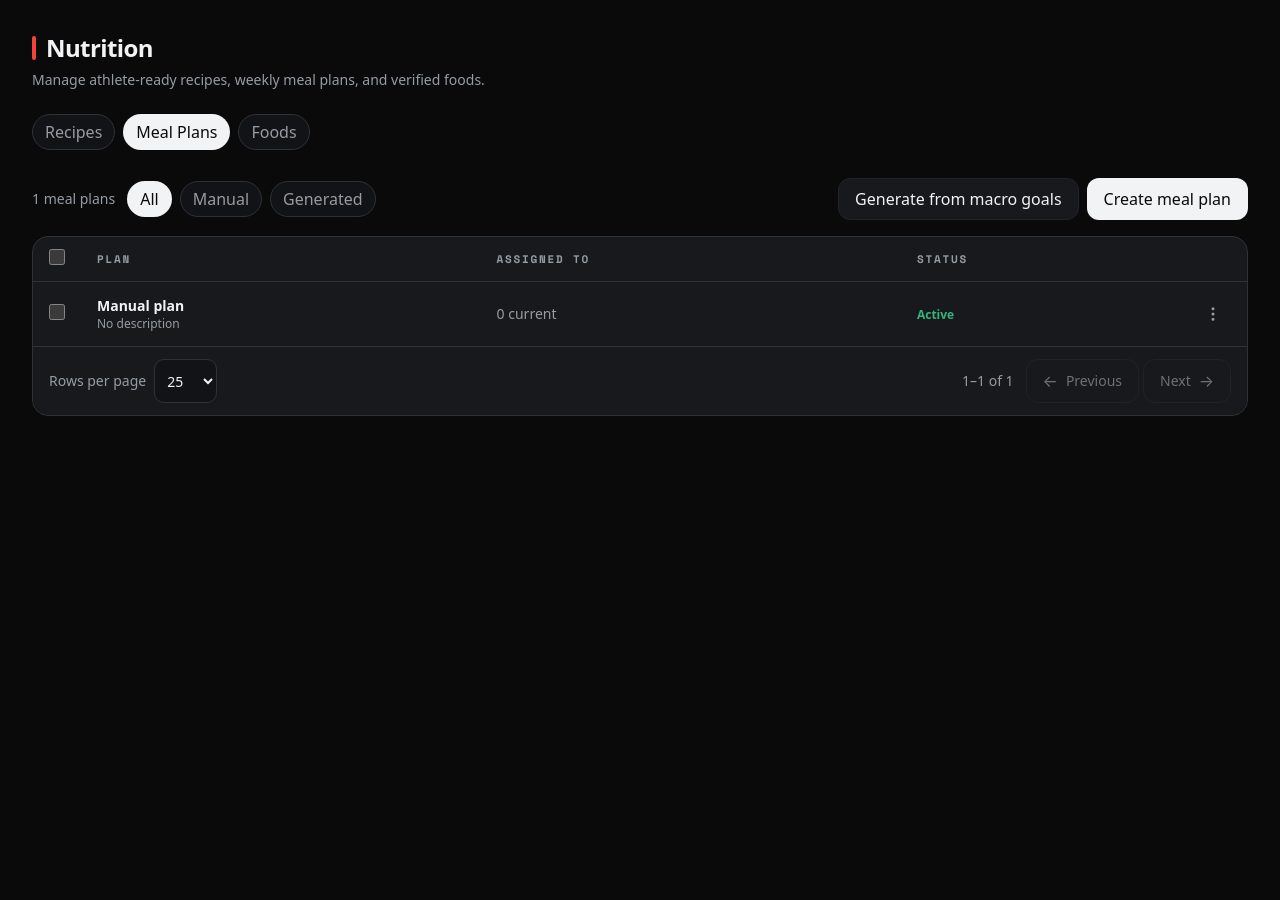
Test case: Nutrition meal-plan deletion › bulk-deletes a selected meal plan through the shared confirm dialog
Expected: the text "Manual plan" is shown, top-left (97, 296), bottom-right (184, 315)
Click the checkbox named "Select Open Manual plan".
click(57, 312)  # box top-left (49, 304), bottom-right (65, 320)
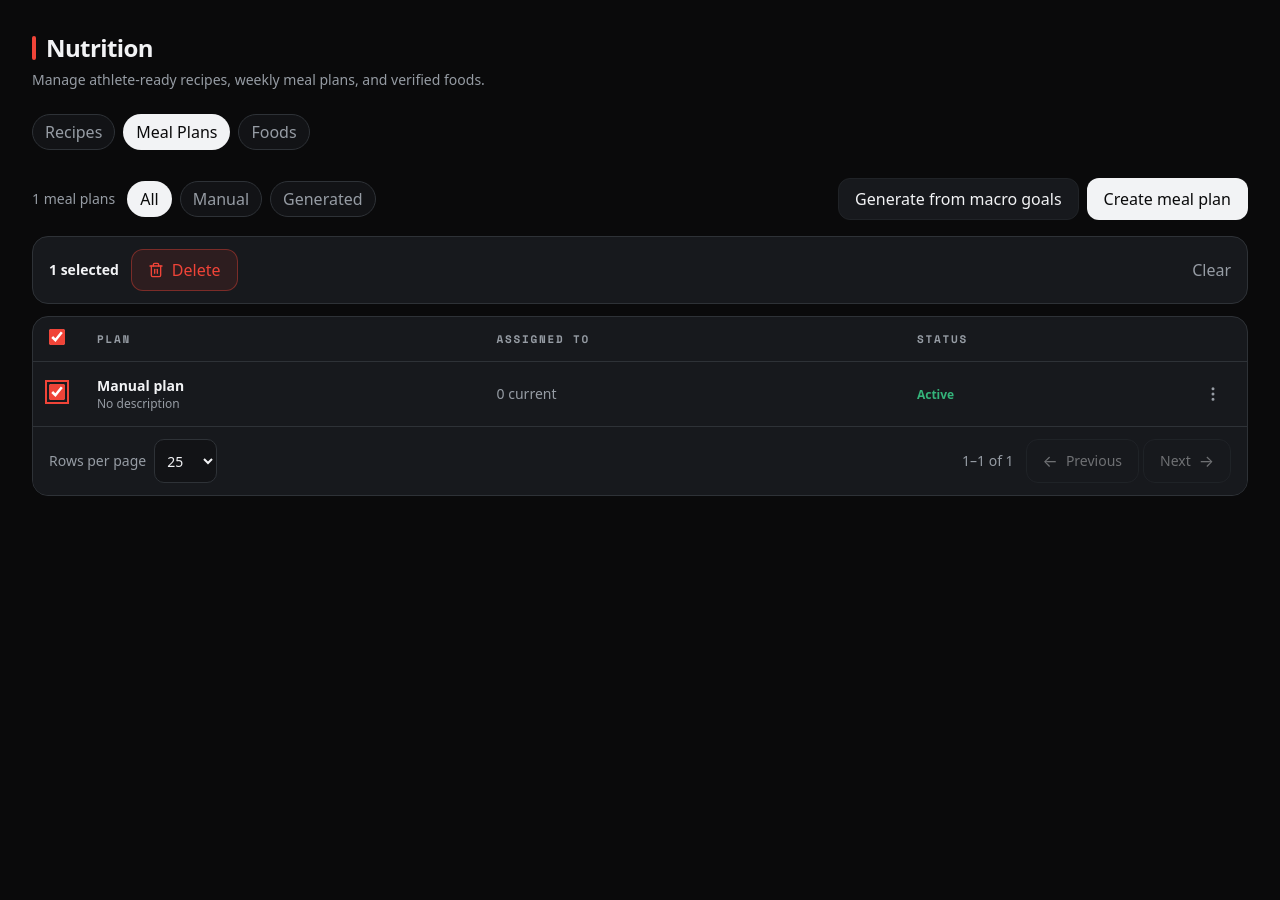
Click the button "Delete".
click(184, 270)  # box top-left (131, 249), bottom-right (238, 291)
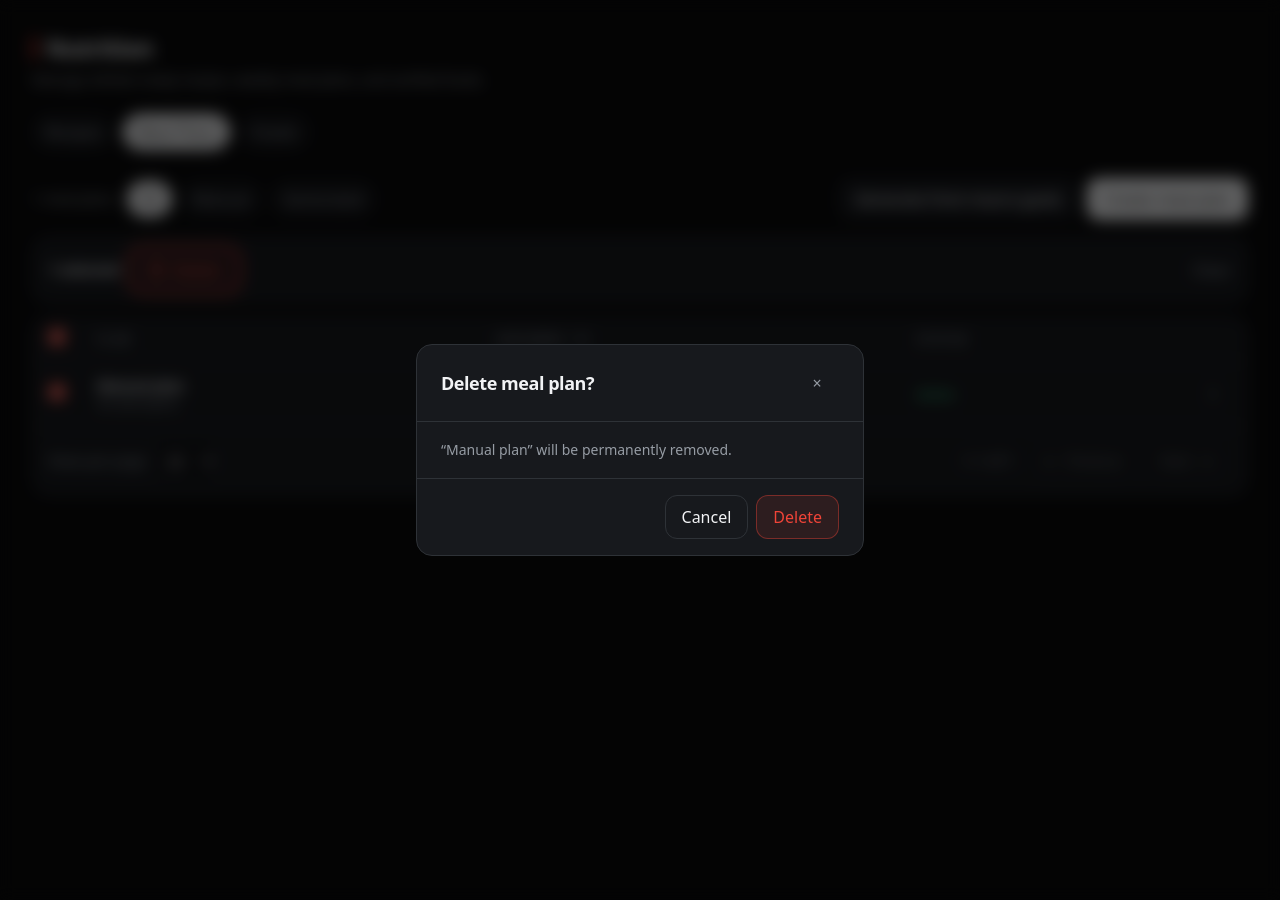
Click the button "Delete".
click(798, 517)  # box top-left (756, 495), bottom-right (839, 539)
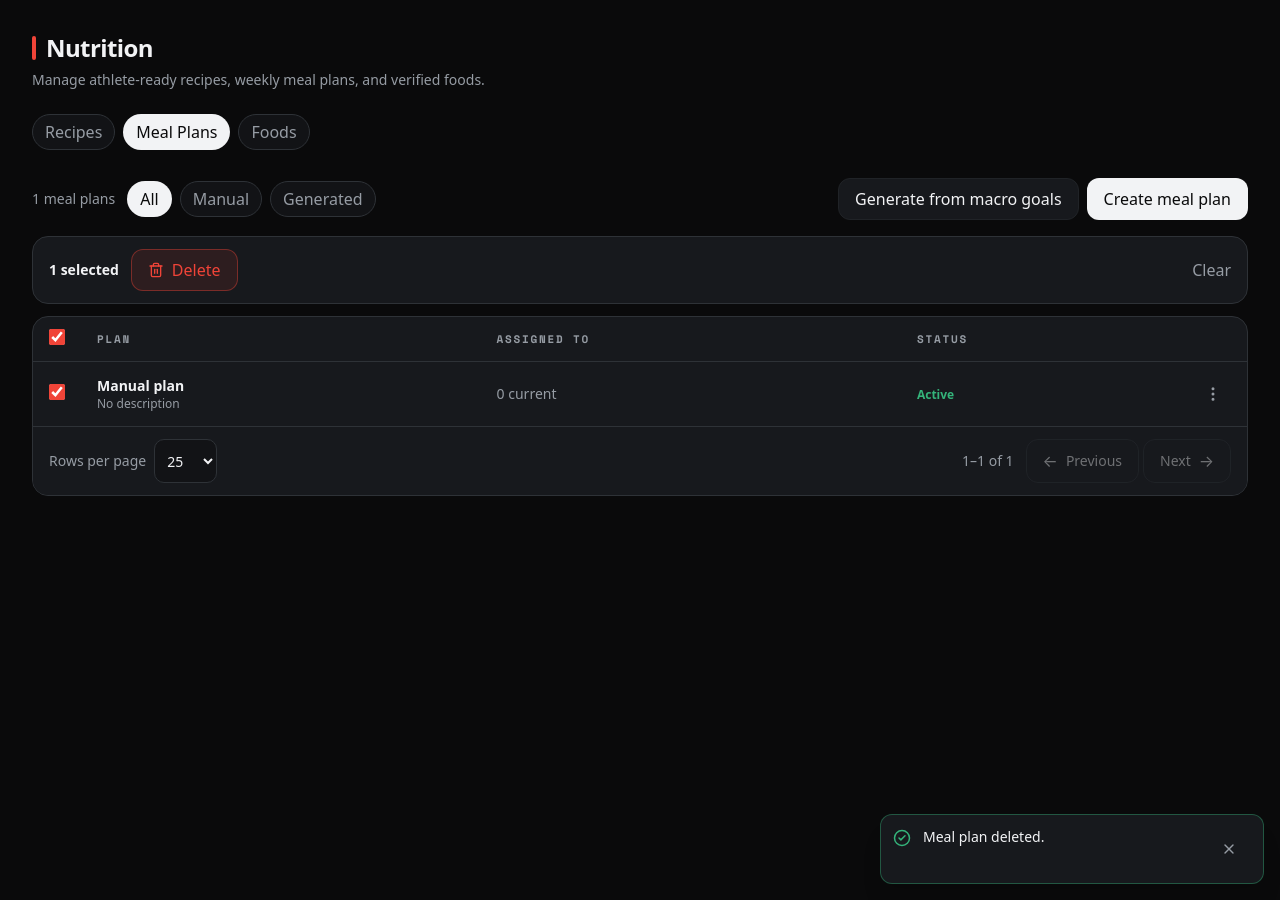
Result: the text "Meal plan deleted." is shown at top-left (923, 827), bottom-right (1044, 846)
